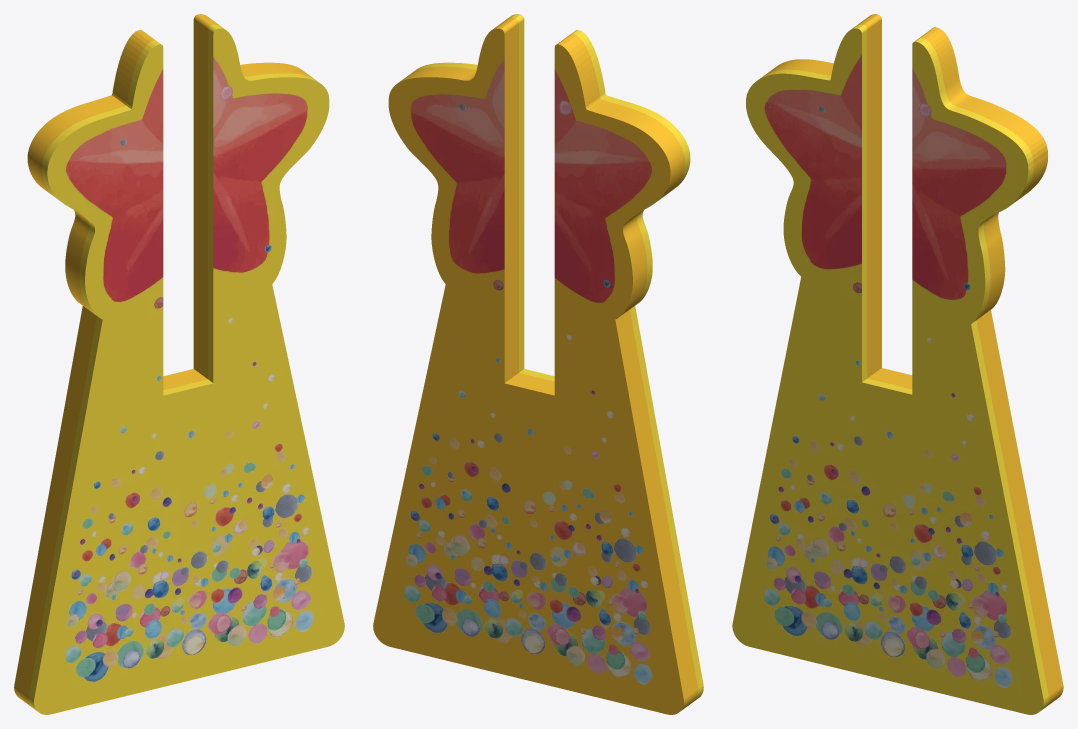
Rendered from free-standing-star-01.glb.
3 views of the same model, side by side, from view 1: azimuth 30°, elevation 25°; view 2: azimuth 150°, elevation 25°; view 3: azimuth 330°, elevation 25° (orthographic).
Parts seen in each view (by area): view 1: free-standing-star-01; view 2: free-standing-star-01; view 3: free-standing-star-01.
Boxes of the visible parts, x1=… form: free-standing-star-01: x1=14, y1=14, x2=344, y2=714; free-standing-star-01: x1=373, y1=14, x2=703, y2=714; free-standing-star-01: x1=732, y1=14, x2=1063, y2=714.
Bounding box in the file's own units: 299 × 592 × 33.
Materials: 4 (2 with a texture image).
